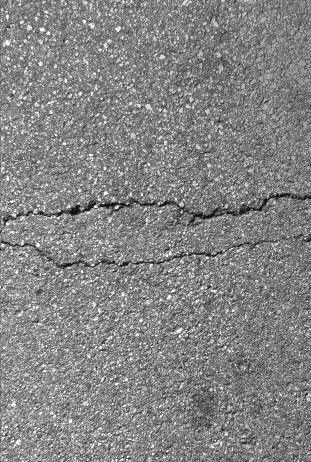crack: (10, 190, 310, 228), (7, 236, 311, 270)
